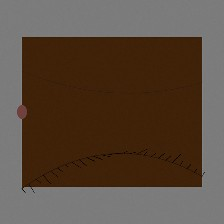corneal_ulcer: (88, 96, 149, 145)
